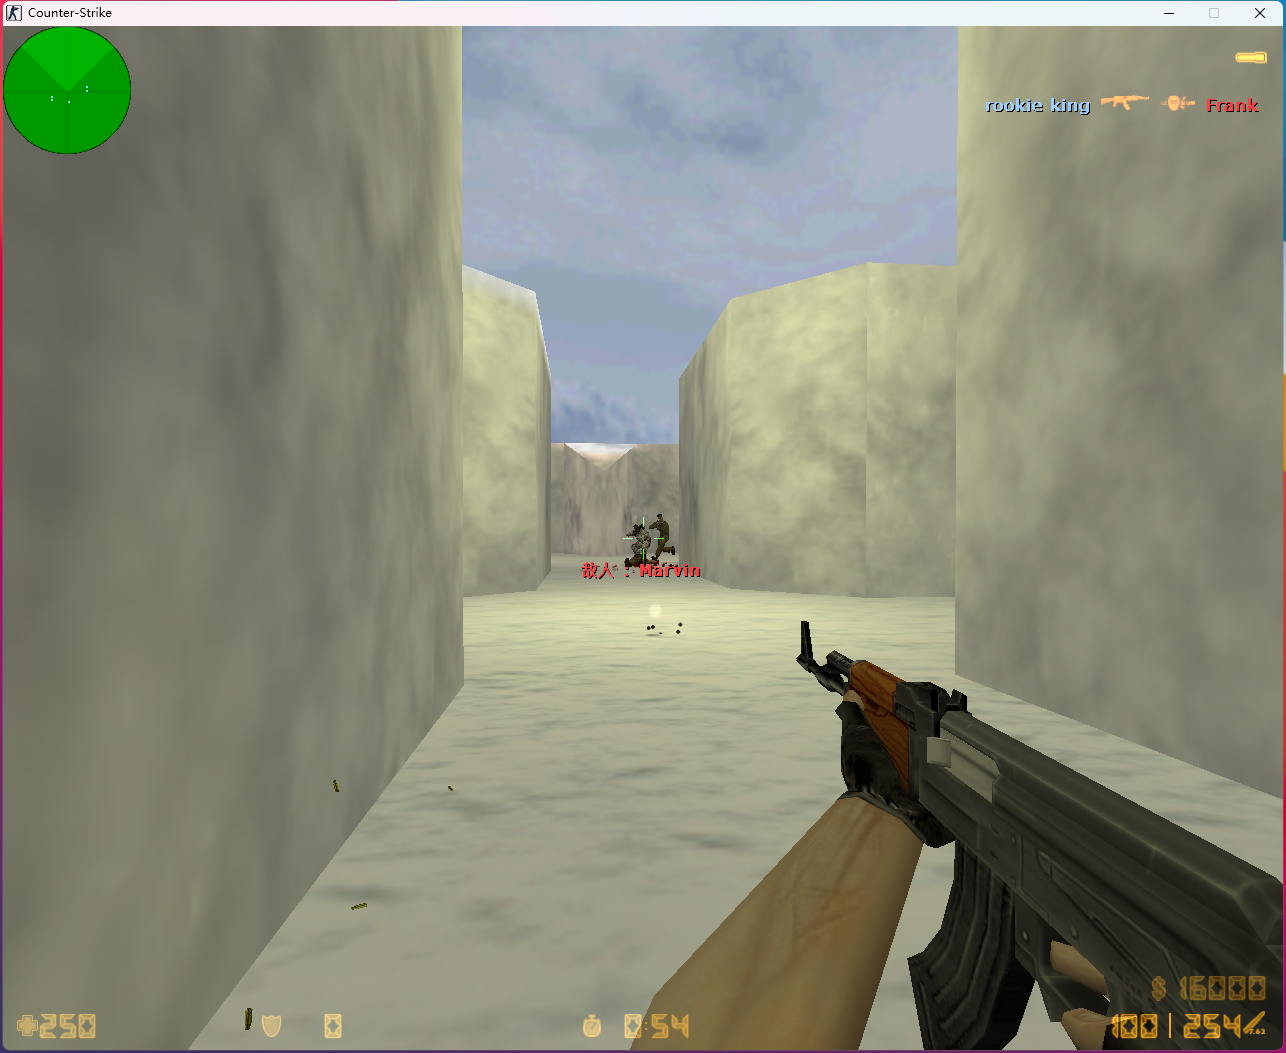T: (648, 512, 675, 569), (626, 521, 649, 567)
